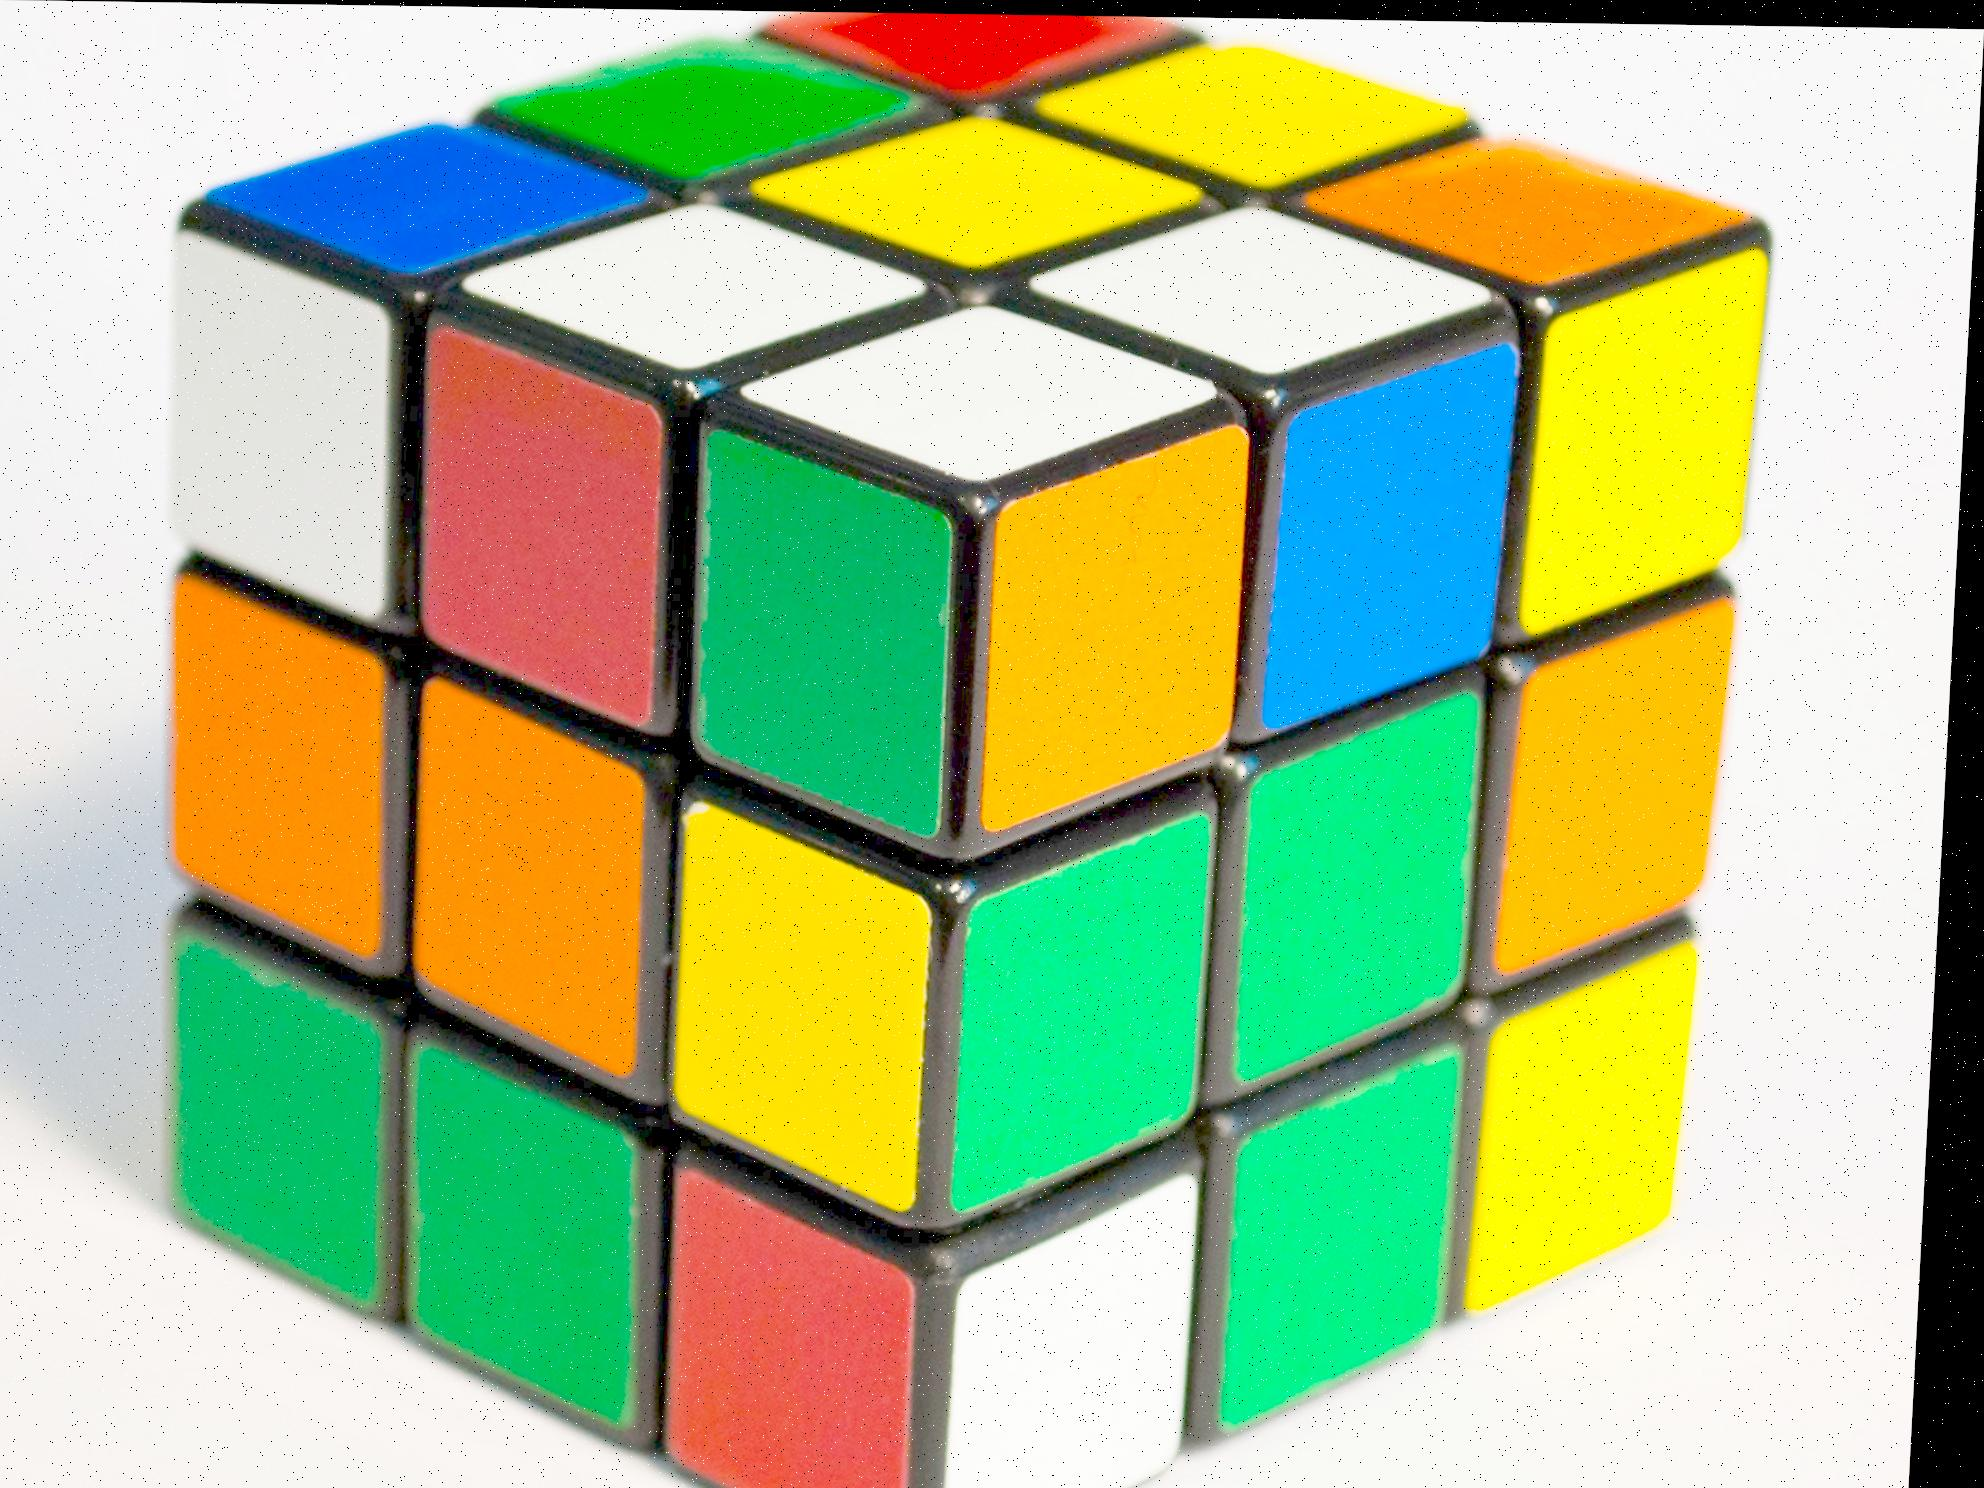cube: (128, 5, 1786, 1488)
